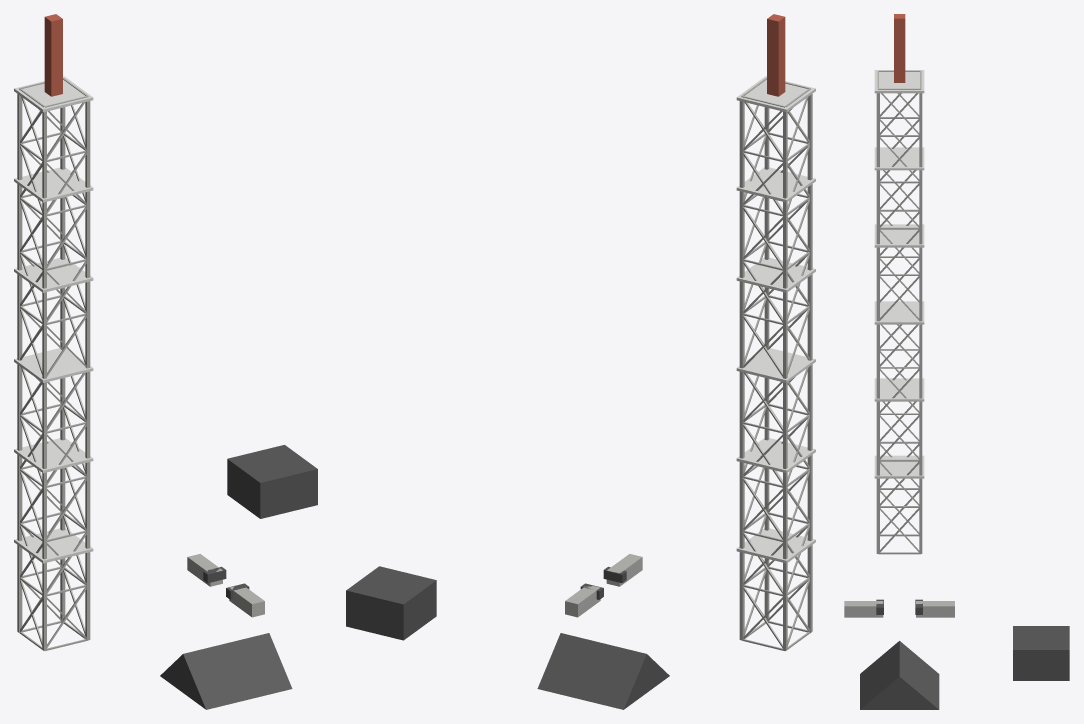
The model's file is Pad_Atlas.fbx.
3 renders of one model, left to right at view 1: azimuth 30°, elevation 25°; view 2: azimuth 150°, elevation 25°; view 3: azimuth 270°, elevation 25°, orthographic. The views are drawn at different scales.
Visible parts, largest first — view 1: Pad_Atlas; view 2: Pad_Atlas; view 3: Pad_Atlas.
Part boxes in pixels (left/top/right/bottom): Pad_Atlas: left=14, top=14, right=317, bottom=709; Pad_Atlas: left=346, top=14, right=815, bottom=709; Pad_Atlas: left=844, top=14, right=1069, bottom=709.
Size of the model in its own units: 24.75 by 47 by 15.9.
